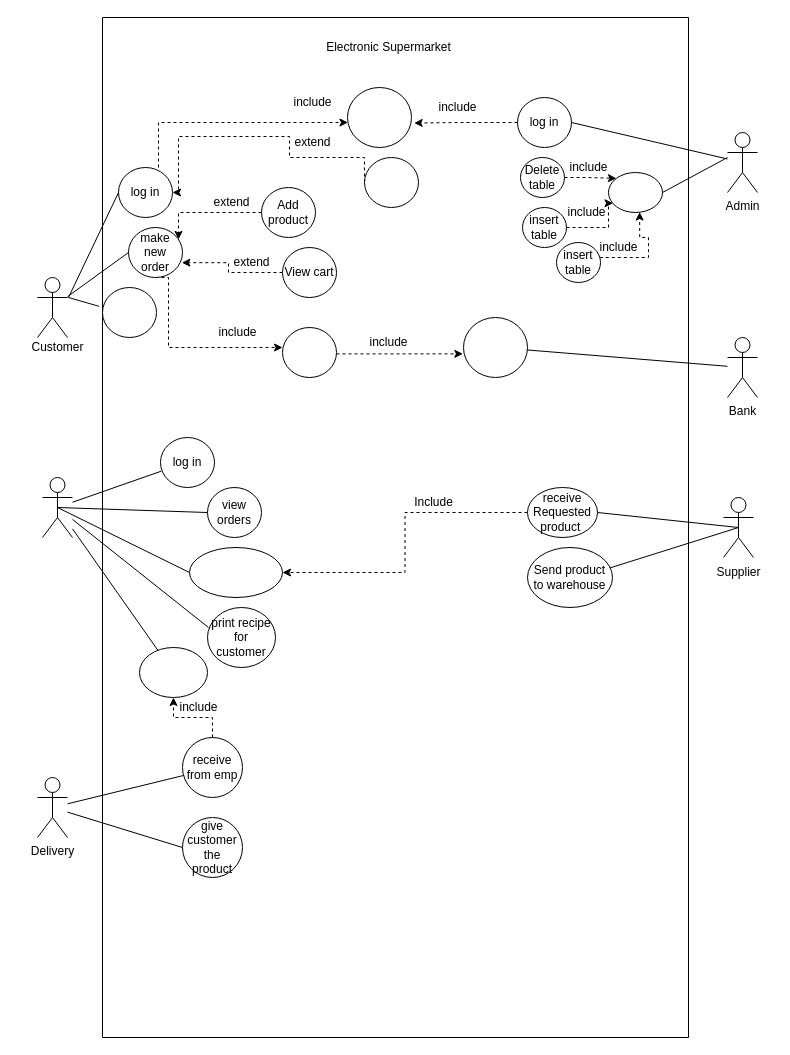
This 790x1055 diagram has some shape labels left out. Here are the shapes that lost their labels. From the top down, the centre of each, then its label:
At pixel 379 117: "verify password".
At pixel 391 182: "Register".
At pixel 635 192: "Manage System".
At pixel 129 312: "view order".
At pixel 309 352: "make payment".
At pixel 495 347: "verify sufficient funds".
At pixel 57 507: "Employee".
At pixel 235 572: "request Product from supplier".
At pixel 173 672: "give delivery products".
